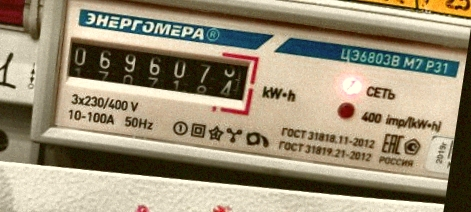0: (170, 56, 188, 80), (71, 44, 88, 67)
4: (218, 77, 234, 99)
6: (96, 47, 113, 70), (146, 55, 162, 76)
7: (195, 62, 213, 85)
9: (121, 51, 137, 74)
screen: (51, 25, 264, 114)
